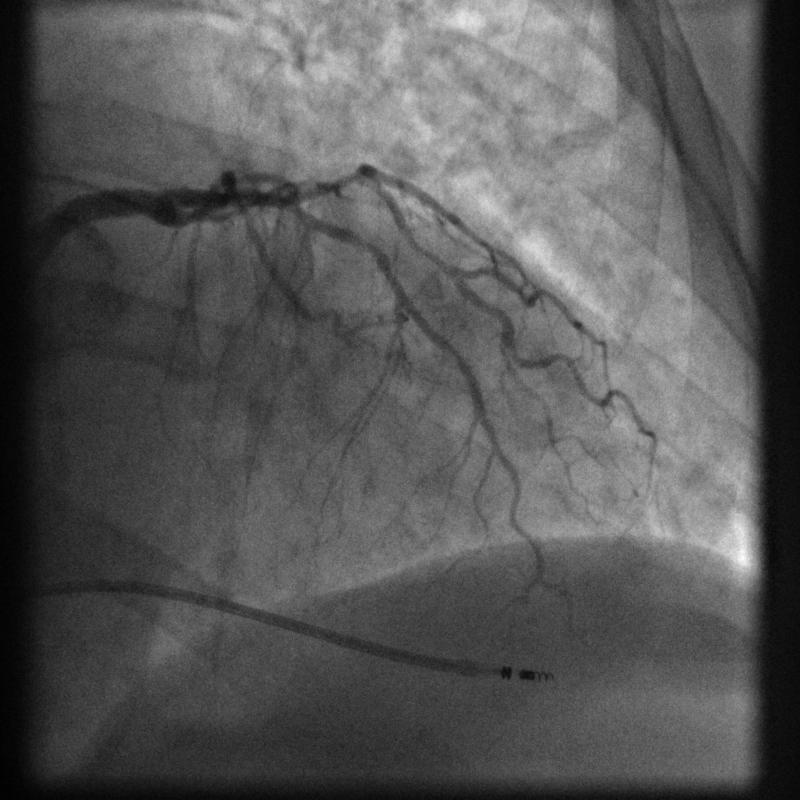Stenosis: (343, 227, 388, 269)
